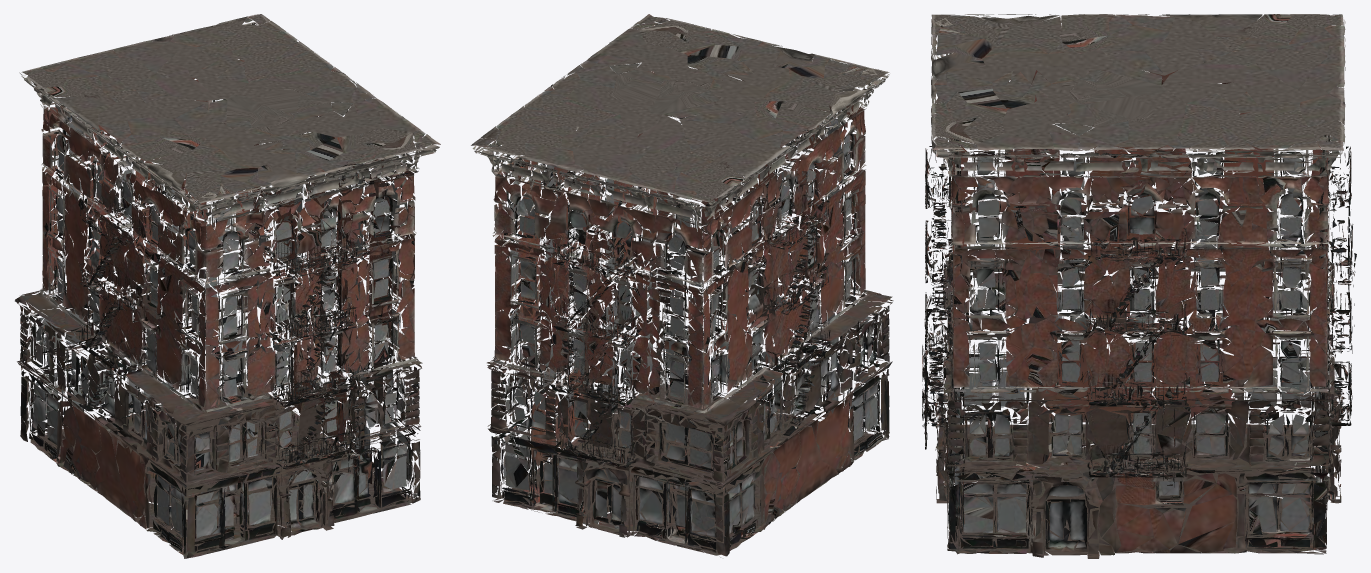
File: brick.glb
3 views of the same model, side by side, from view 1: azimuth 30°, elevation 25°; view 2: azimuth 150°, elevation 25°; view 3: azimuth 270°, elevation 25° (orthographic). The views are drawn at different scales.
Size of the model in its own units: 1.44 by 1.89 by 1.81.
1 material, 1 textured.
